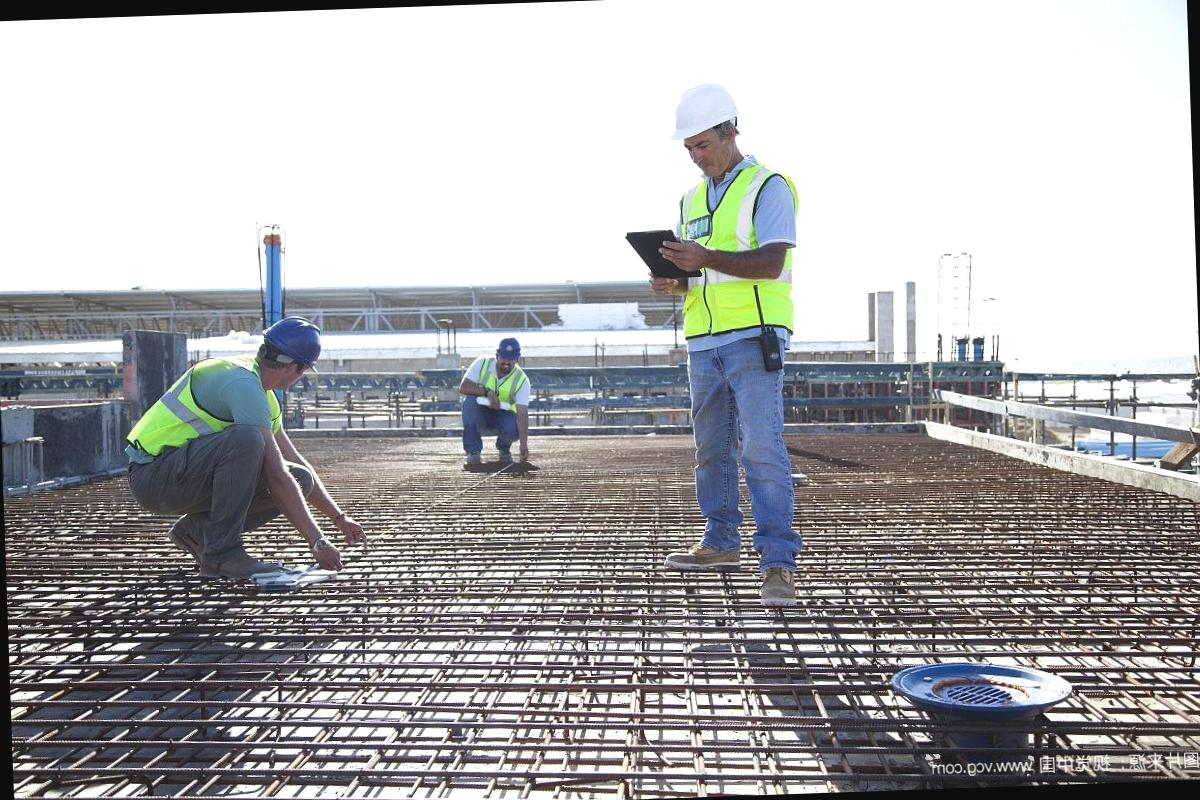helmet: (673, 89, 734, 138), (254, 323, 336, 359)
person: (636, 65, 816, 599), (110, 316, 351, 621), (444, 321, 540, 482)
